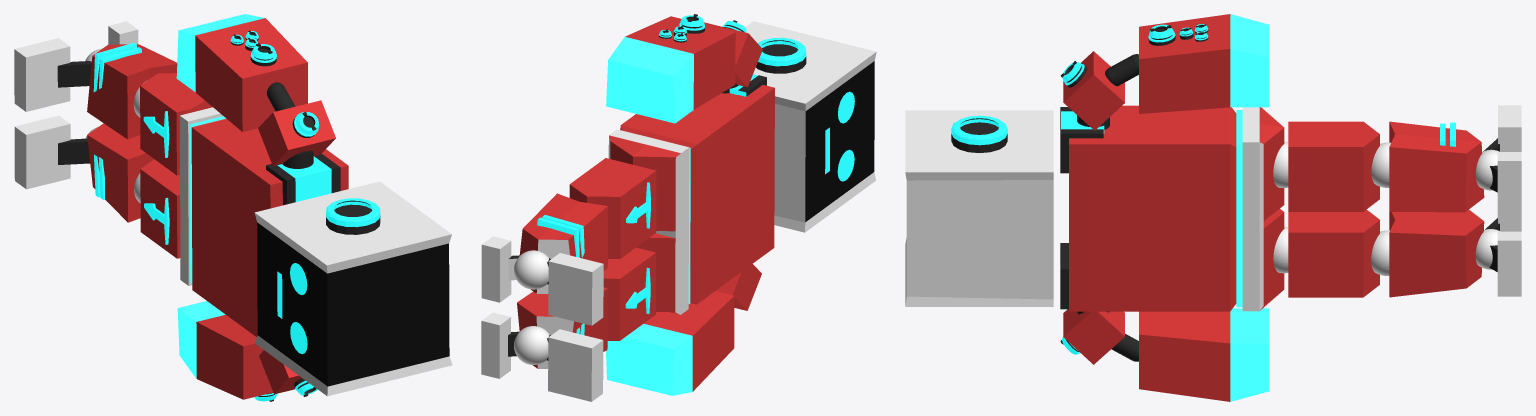
File: robo.glb
The picture shows the model from 3 angles, left to right: view 1: azimuth 30°, elevation 25°; view 2: azimuth 150°, elevation 25°; view 3: azimuth 270°, elevation 25°; orthographic projection. The views are drawn at different scales.
Parts seen in each view (by area): view 1: Cube, Cube.001; view 2: Cube, Cube.001; view 3: Cube, Cube.001.
Part boxes in pixels (x1=…): Cube: x1=14, y1=14, x2=452, y2=399; Cube.001: x1=93, y1=30, x2=380, y2=401; Cube: x1=481, y1=16, x2=876, y2=401; Cube.001: x1=537, y1=14, x2=854, y2=334; Cube: x1=905, y1=14, x2=1521, y2=401; Cube.001: x1=951, y1=24, x2=1455, y2=354.
Size of the model in its own units: 0.9871 by 2.43 by 3.74.
